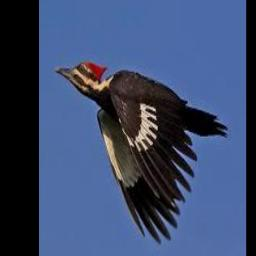Woodpecker: (55, 60, 228, 243)
